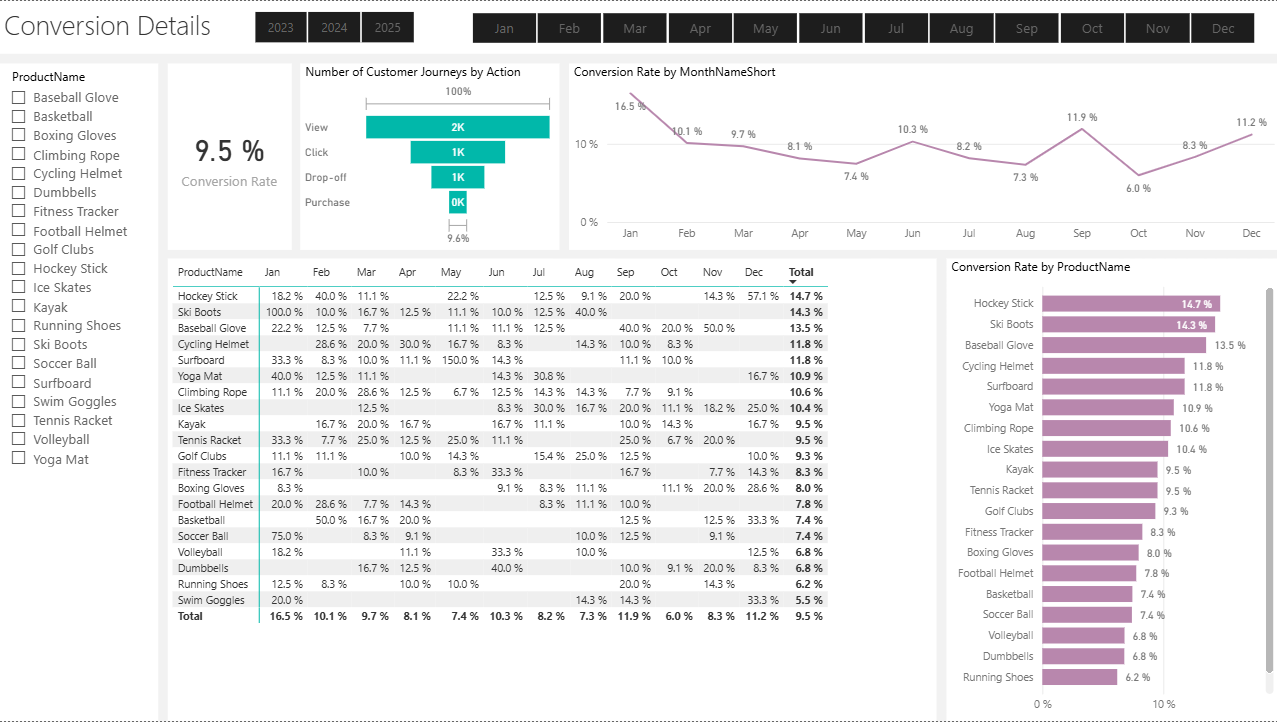

What the dashboard file says about the page in this screenshot:
{"tool":"powerbi","page":{"name":"Conversion Details","canvas":[1280,720],"ordinal":1},"visuals":[{"type":"textbox","box":[0,0,1280,52.6],"z":0},{"type":"slicer","fields":{"Values":["dim_products.ProductName"]},"box":[0,61.9,159.4,658.4],"z":1000},{"type":"card","fields":{"Values":["_Calculations.Conversion Rate"]},"box":[168.5,61.9,123.8,186.7],"z":2000},{"type":"lineChart","fields":{"Y":["_Calculations.Conversion Rate"],"Category":["Calendar.MonthNameShort"]},"box":[570.1,61.9,710.3,186.7],"z":3000},{"type":"clusteredBarChart","fields":{"Category":["dim_products.ProductName"],"Y":["_Calculations.Conversion Rate"]},"box":[948,257.7,332.4,462.6],"z":4000},{"type":"slicer","fields":{"Values":["Calendar.Year"]},"box":[230.2,4.1,208.5,44.4],"z":5000},{"type":"slicer","fields":{"Values":["Calendar.MonthNameShort"]},"box":[448,4.6,832.3,43.7],"z":6000},{"type":"pivotTable","fields":{"Rows":["dim_products.ProductName"],"Values":["_Calculations.Conversion Rate"],"Columns":["Calendar.MonthNameShort"]},"box":[168.5,257.7,768.6,462.6],"z":7000},{"type":"funnel","fields":{"Category":["fact_customer_journey.Action"],"Y":["_Calculations.Number of Customer Journeys"]},"box":[301.4,61.9,259.5,186.7],"z":8000}]}

Visuals, with their boxes in screenshot pixels (x1, y1, x2, y2), scaled from the page's 1280x720 canvas onto the 1277x722 screenshot:
textbox: locate(0, 0, 1276, 53)
slicer - dim_products.ProductName: locate(0, 62, 159, 721)
card - _Calculations.Conversion Rate: locate(168, 62, 292, 249)
lineChart - _Calculations.Conversion Rate x Calendar.MonthNameShort: locate(569, 62, 1276, 249)
clusteredBarChart - dim_products.ProductName x _Calculations.Conversion Rate: locate(946, 258, 1276, 721)
slicer - Calendar.Year: locate(230, 4, 438, 49)
slicer - Calendar.MonthNameShort: locate(447, 5, 1276, 48)
pivotTable - dim_products.ProductName x _Calculations.Conversion Rate: locate(168, 258, 935, 721)
funnel - fact_customer_journey.Action x _Calculations.Number of Customer Journeys: locate(301, 62, 560, 249)
